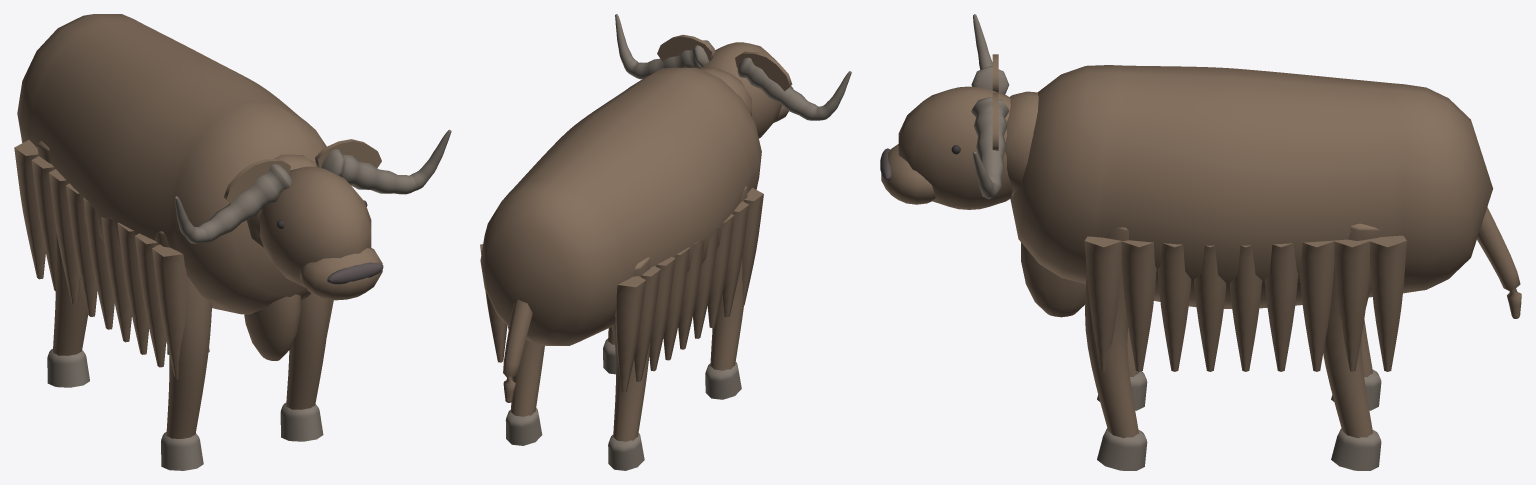
Rendered from polar-tundra-and-alpine-fauna-musk-ox-cae096a5__6057.glb.
3 views of the same model, side by side, from view 1: azimuth 30°, elevation 25°; view 2: azimuth 150°, elevation 25°; view 3: azimuth 270°, elevation 25° (orthographic). The views are drawn at different scales.
Visible parts, largest first — view 1: musk-ox; view 2: musk-ox; view 3: musk-ox.
Part boxes in pixels (x1=…): musk-ox: x1=14, y1=14, x2=451, y2=470; musk-ox: x1=480, y1=14, x2=851, y2=470; musk-ox: x1=880, y1=14, x2=1521, y2=470.
Bounding box in the file's own units: 1.25 × 1.52 × 2.44.
